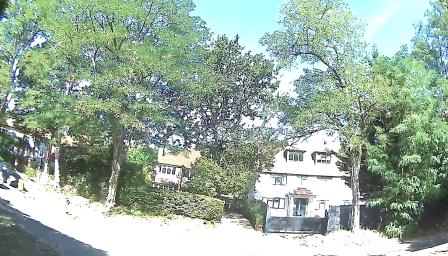Cars: (0, 160, 27, 200)
